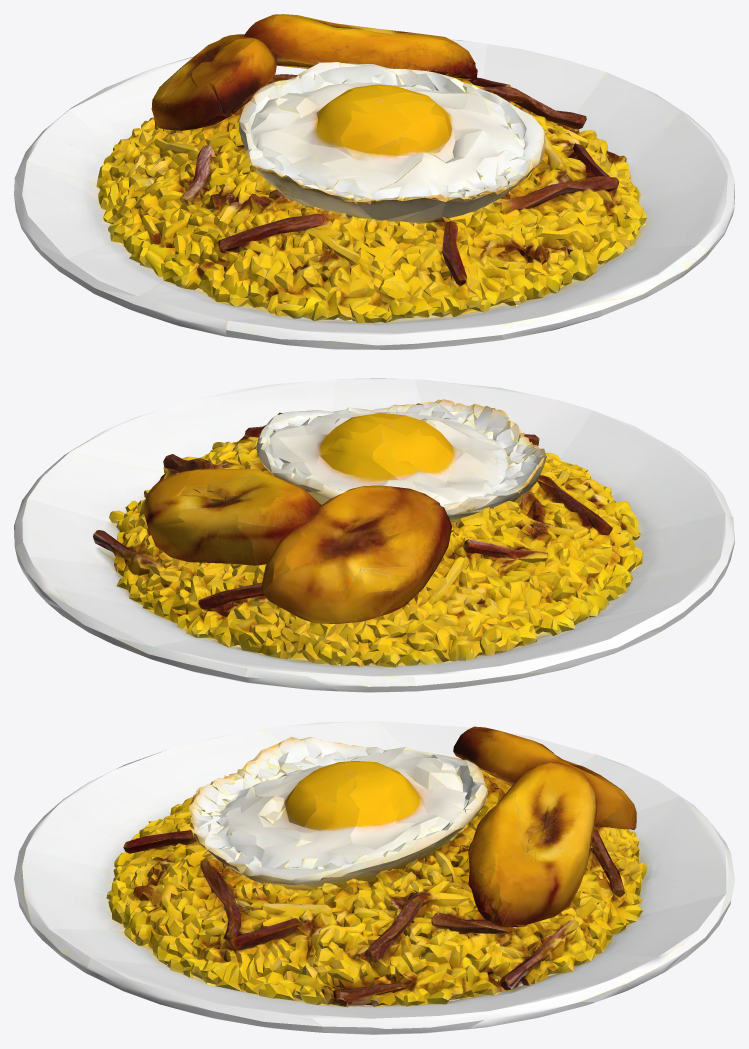
Rendered from majadito.glb.
3 views of the same model, one above another, from view 1: azimuth 30°, elevation 25°; view 2: azimuth 150°, elevation 25°; view 3: azimuth 270°, elevation 25° (orthographic).
Size of the model in its own units: 1.9 by 0.4327 by 1.9.
1 material, 1 textured.
